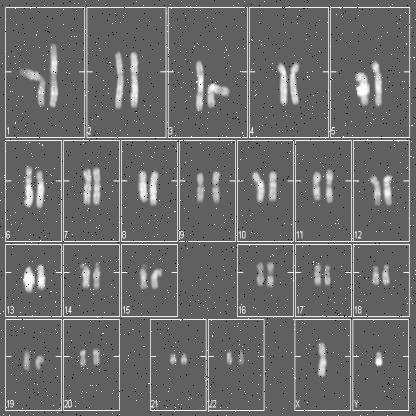1: (15, 65, 46, 109), (46, 38, 64, 110)
10: (266, 168, 284, 208), (250, 168, 266, 208)
11: (310, 166, 322, 204), (322, 166, 334, 204)
12: (368, 171, 382, 210), (382, 171, 396, 210)
13: (22, 261, 36, 294), (36, 260, 50, 293)
14: (78, 262, 93, 290), (92, 262, 107, 290)
15: (134, 262, 148, 294), (148, 262, 162, 294)
16: (266, 252, 278, 295), (254, 252, 265, 295)
17: (310, 261, 322, 289), (323, 261, 335, 289)
18: (368, 261, 382, 289), (380, 261, 394, 289)
19: (35, 346, 46, 374), (21, 348, 32, 375)
2: (110, 47, 126, 110), (127, 47, 142, 110)
20: (78, 344, 89, 372), (91, 343, 102, 370)
21: (165, 348, 179, 369), (180, 349, 194, 370)
22: (224, 344, 235, 372), (236, 343, 247, 370)
3: (205, 76, 235, 114), (191, 57, 205, 114)
4: (275, 56, 290, 108), (290, 58, 304, 110)
5: (370, 57, 388, 107), (354, 64, 370, 108)
6: (22, 164, 34, 212), (34, 164, 46, 212)
7: (80, 164, 92, 208), (92, 164, 104, 208)
8: (148, 168, 160, 210), (136, 168, 148, 209)
9: (194, 168, 210, 205), (210, 169, 226, 206)
X: (315, 338, 331, 381)
Y: (370, 342, 390, 376)
